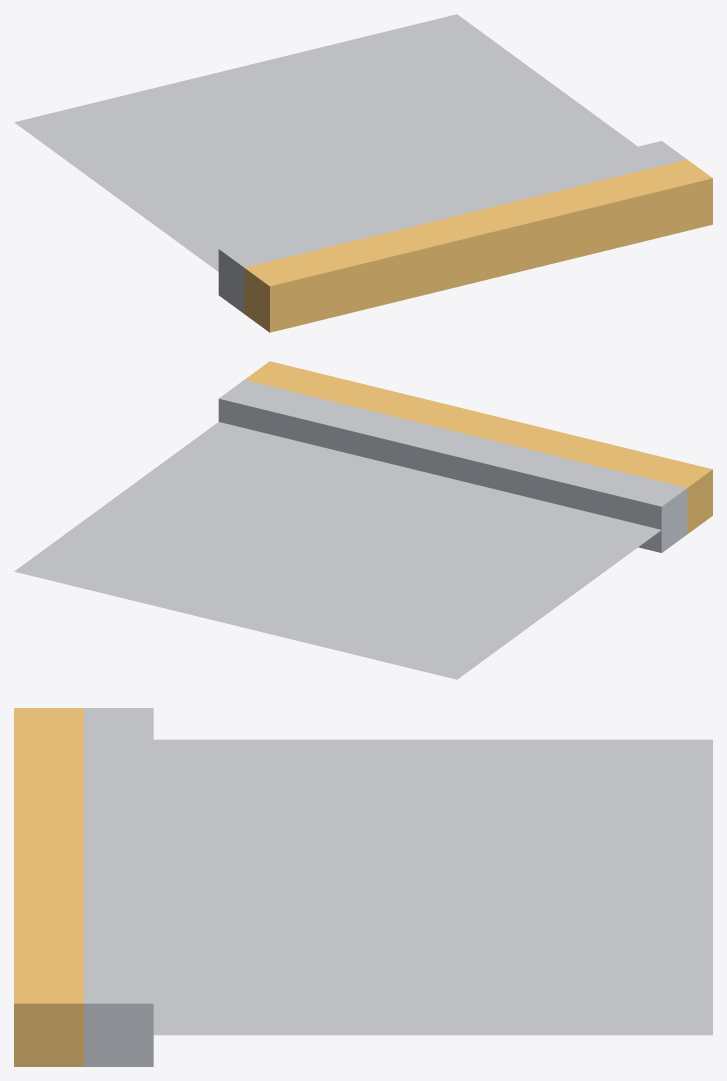
Rendered from platform_side.glb.
3 renders of one model, top to bottom at view 1: azimuth 30°, elevation 25°; view 2: azimuth 150°, elevation 25°; view 3: azimuth 270°, elevation 25°, orthographic. The views are drawn at different scales.
Visible parts, largest first — view 1: platform_side; view 2: platform_side; view 3: platform_side.
Boxes of the visible parts, <box> form: platform_side: <box>14,14,712,332</box>; platform_side: <box>14,361,712,679</box>; platform_side: <box>14,708,712,1066</box>.
Size of the model in its own units: 1.4 by 0.1404 by 1.4.
